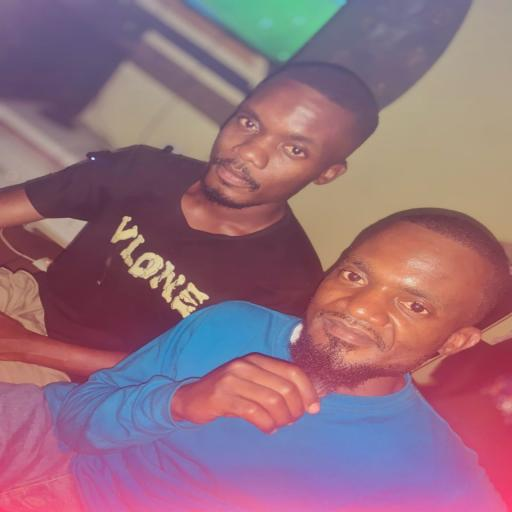MATTHIEU: (301, 204, 512, 394)
